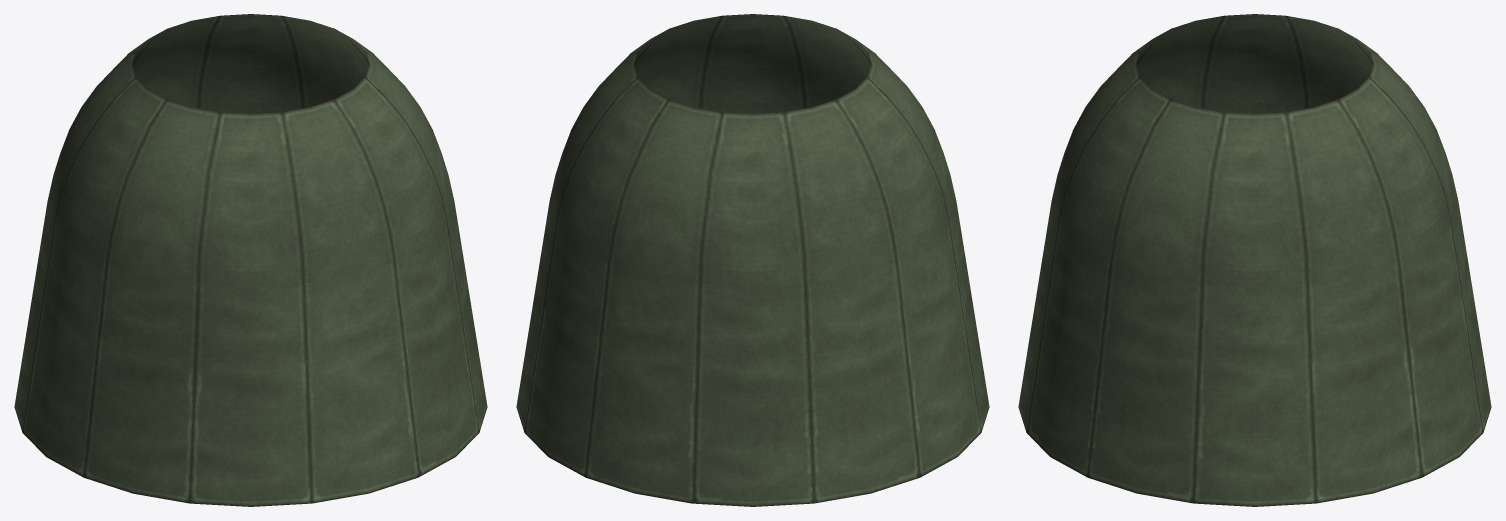
Rendered from crinkle.obj.
3 views of the same model, side by side, from view 1: azimuth 30°, elevation 25°; view 2: azimuth 150°, elevation 25°; view 3: azimuth 270°, elevation 25° (orthographic).
Parts seen in each view (by area): view 1: 1; view 2: 1; view 3: 1.
Boxes of the visible parts, bbox=[...] form: 1: bbox=[14, 14, 487, 506]; 1: bbox=[516, 14, 989, 506]; 1: bbox=[1018, 14, 1491, 506].
Bounding box in the file's own units: 1.25 × 1 × 1.25.
1 material, 1 textured.
